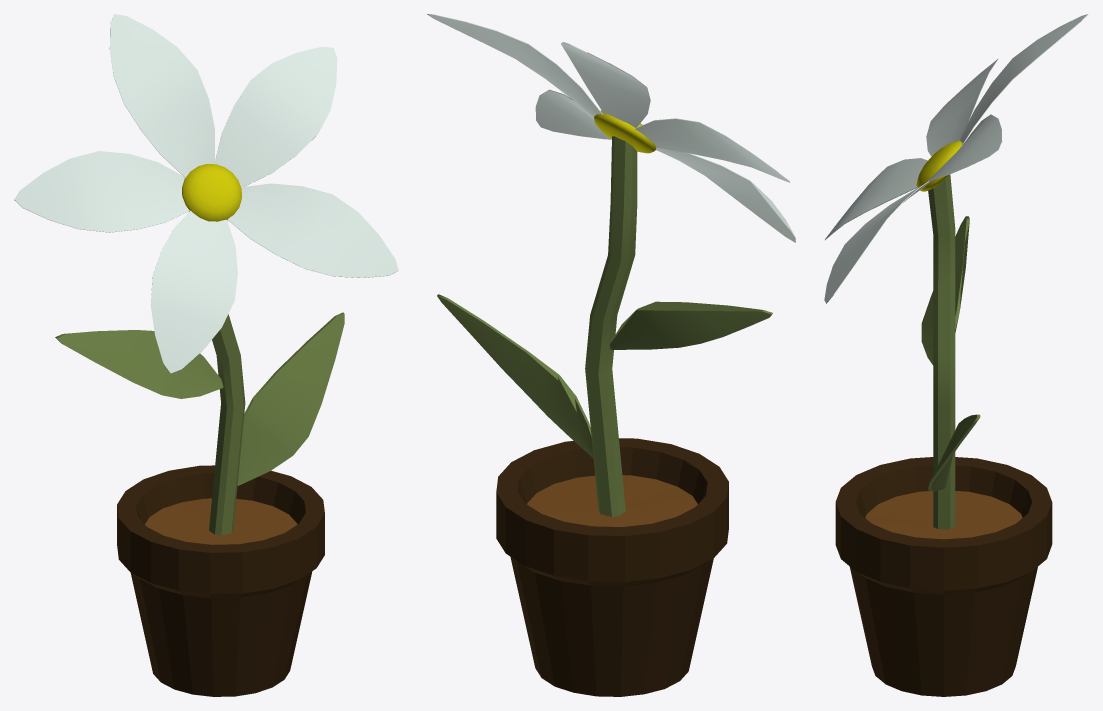
File: Flower_pot_stylised_PUB.fbx
3 renders of one model, left to right at view 1: azimuth 30°, elevation 25°; view 2: azimuth 150°, elevation 25°; view 3: azimuth 270°, elevation 25°, orthographic. The views are drawn at different scales.
Visible parts, largest first — view 1: polySurface17, polySurface21, polySurface19, polySurface22, polySurface23, polySurface24, polySurface16, polySurface15, polySurface18, polySurface20; view 2: polySurface17, polySurface18, polySurface16, polySurface15, polySurface19, polySurface23, polySurface21, polySurface24, polySurface22, polySurface20; view 3: polySurface17, polySurface18, polySurface24, polySurface23, polySurface19, polySurface22, polySurface21, polySurface15, polySurface16, polySurface20.
Part boxes in pixels (x1,y1,x2,y2): polySurface17: (117,465,324,696); polySurface21: (215,46,337,186); polySurface19: (109,14,214,177); polySurface22: (227,183,398,277); polySurface23: (14,151,189,232); polySurface24: (150,210,237,373); polySurface16: (237,312,344,485); polySurface15: (55,330,223,398); polySurface18: (209,314,245,535); polySurface20: (182,164,241,221); polySurface17: (496,438,728,696); polySurface18: (585,136,637,516); polySurface16: (437,294,593,458); polySurface15: (610,301,772,349); polySurface19: (561,42,650,127); polySurface23: (635,118,789,182); polySurface21: (427,14,602,117); polySurface24: (656,147,795,242); polySurface22: (535,89,611,139); polySurface20: (594,110,656,153); polySurface17: (835,457,1052,696); polySurface18: (928,174,955,529); polySurface24: (825,158,927,239); polySurface23: (926,59,998,156); polySurface19: (959,14,1088,147); polySurface22: (824,181,930,303); polySurface21: (928,114,1002,181); polySurface15: (921,216,969,365); polySurface16: (928,414,980,491); polySurface20: (916,140,963,191).
Bounding box in the file's own units: 88.86 × 161 × 61.
